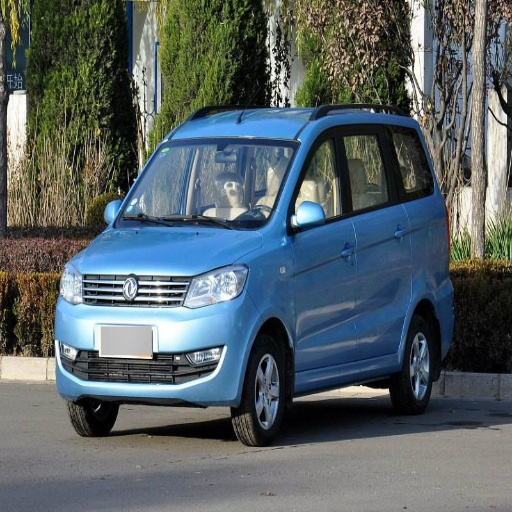front_bumper: (56, 273, 257, 411)
front_glass: (114, 124, 299, 229)
front_left_door: (291, 129, 360, 371)
